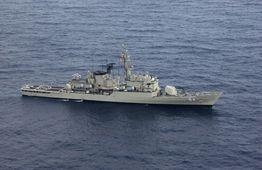warship: (15, 51, 236, 106)
